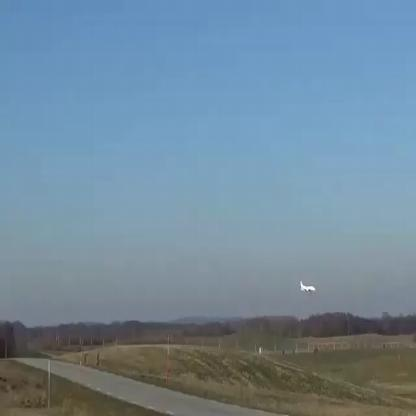CIV_Plane: (298, 278, 316, 292)
